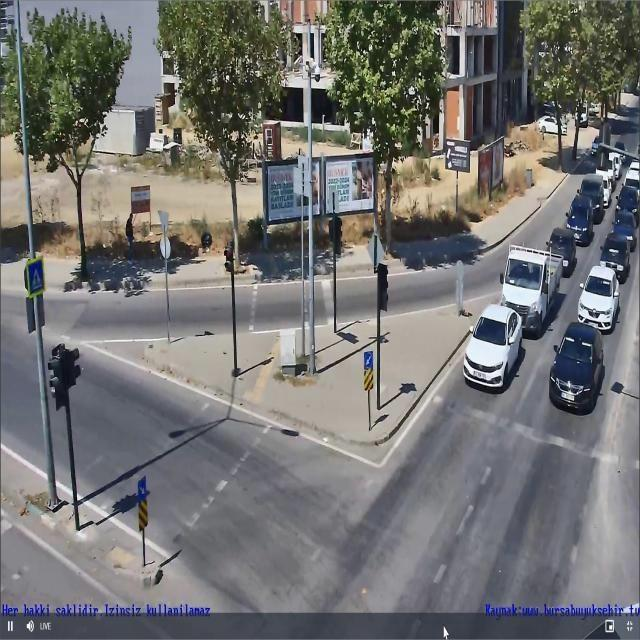Car: (461, 304, 522, 390), (549, 323, 607, 410), (576, 266, 620, 332), (599, 232, 634, 280), (564, 195, 596, 244), (575, 174, 606, 223), (546, 228, 577, 275), (613, 205, 639, 239), (616, 185, 640, 219), (536, 116, 568, 135)
Truck: (499, 242, 565, 338)
